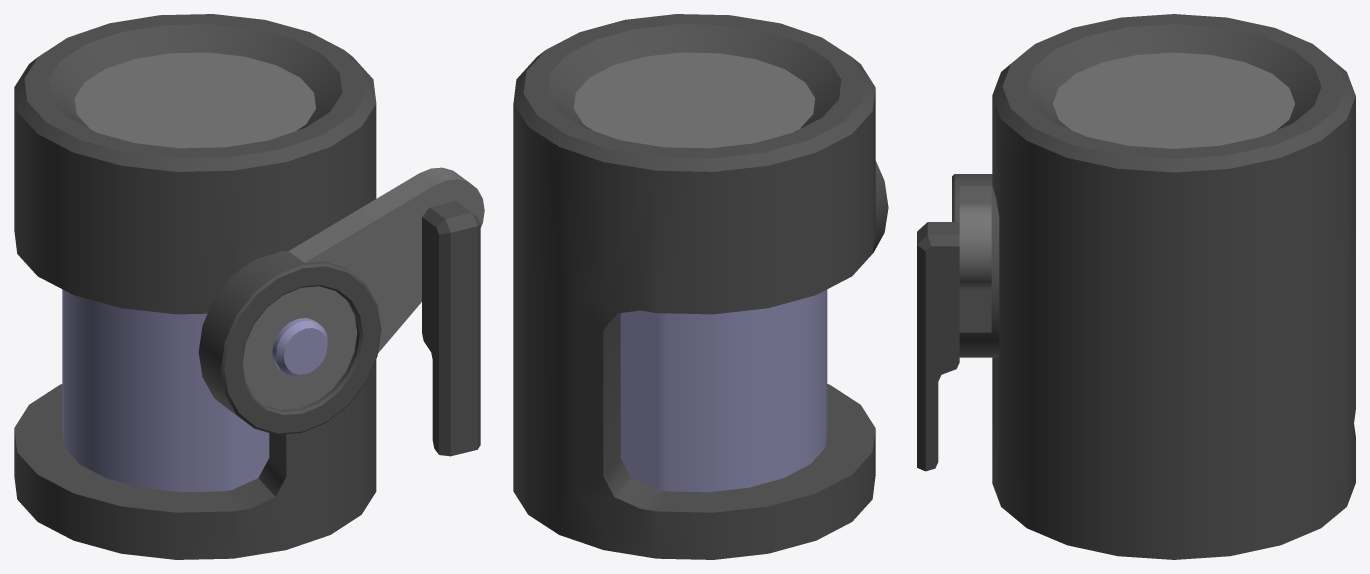
Rendered from Cafetiere.fbx.
3 renders of one model, left to right at view 1: azimuth 30°, elevation 25°; view 2: azimuth 150°, elevation 25°; view 3: azimuth 270°, elevation 25°, orthographic.
Visible parts, largest first — view 1: Cafetiere; view 2: Cafetiere; view 3: Cafetiere.
Part boxes in pixels (box(x1,y1,x2,y2)): Cafetiere: box(14, 14, 484, 559); Cafetiere: box(513, 14, 888, 559); Cafetiere: box(917, 14, 1355, 559).
Bounding box in the file's own units: 24.17 × 27 × 27.07.
